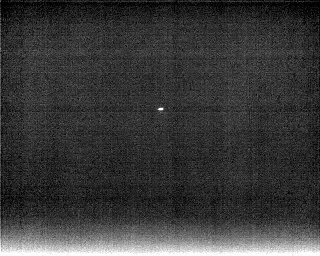BIRD: (156, 105, 165, 114)
